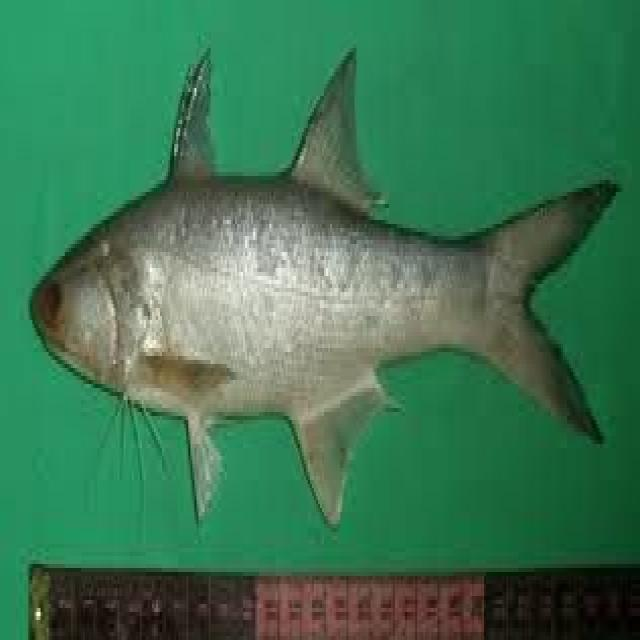Fourfinger-Threadfin: (21, 47, 624, 505)
